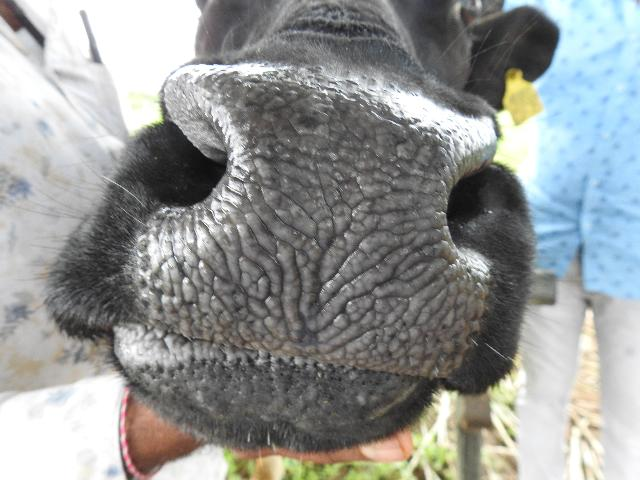Muzzle: (168, 65, 474, 374)
